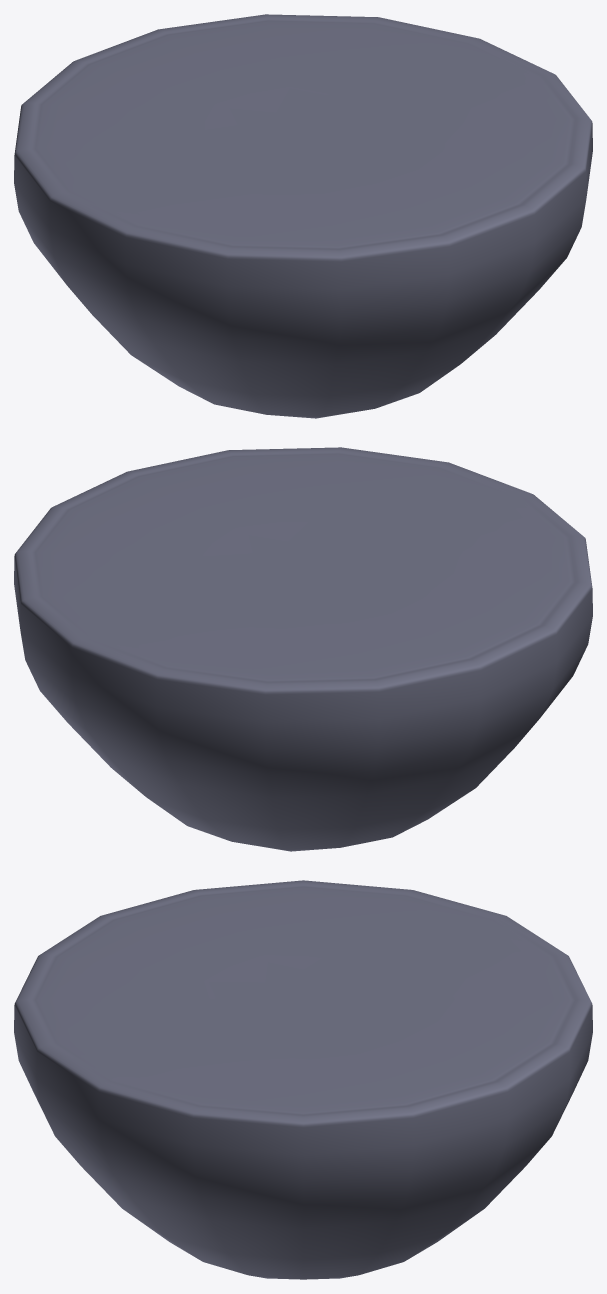
Rendered from BubbleBuoy.fbx.
The picture shows the model from 3 angles, top to bottom: view 1: azimuth 30°, elevation 25°; view 2: azimuth 150°, elevation 25°; view 3: azimuth 270°, elevation 25°; orthographic projection.
Parts seen in each view (by area): view 1: BubbleBuoy; view 2: BubbleBuoy; view 3: BubbleBuoy.
Part boxes in pixels (box(x1,y1,x2,y2)): BubbleBuoy: box(14, 14, 592, 418); BubbleBuoy: box(14, 447, 592, 851); BubbleBuoy: box(14, 880, 592, 1279).
Bounding box in the file's own units: 2421 × 1200 × 2421.
